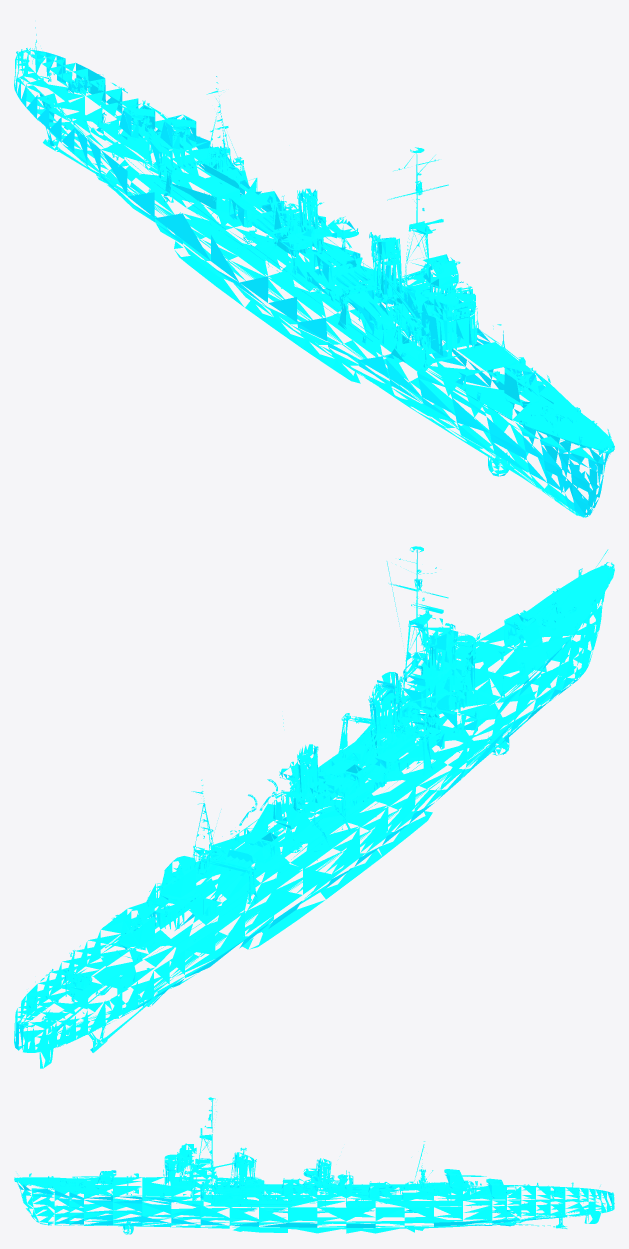
The model's file is PJSD528.glb.
3 views of the same model, one above another, from view 1: azimuth 30°, elevation 25°; view 2: azimuth 150°, elevation 25°; view 3: azimuth 270°, elevation 25° (orthographic). The views are drawn at different scales.
Parts seen in each view (by area): view 1: hull_mid, main_battery, torpedo, superstructure; view 2: hull_mid, main_battery, torpedo, superstructure; view 3: hull_mid, torpedo, main_battery, superstructure.
Boxes of the visible parts, box(x1,y1,x2,y2) form: hull_mid: box(14, 27, 614, 517); main_battery: box(106, 92, 553, 403); torpedo: box(223, 191, 370, 287); superstructure: box(411, 219, 460, 286); hull_mid: box(14, 546, 614, 1068); main_battery: box(105, 602, 553, 948); torpedo: box(225, 758, 375, 864); superstructure: box(411, 603, 459, 650); hull_mid: box(14, 1097, 614, 1234); torpedo: box(265, 1178, 397, 1198); main_battery: box(72, 1169, 530, 1195); superstructure: box(177, 1128, 202, 1158).
Size of the model in its own units: 0.7416 by 1.98 by 7.9.
